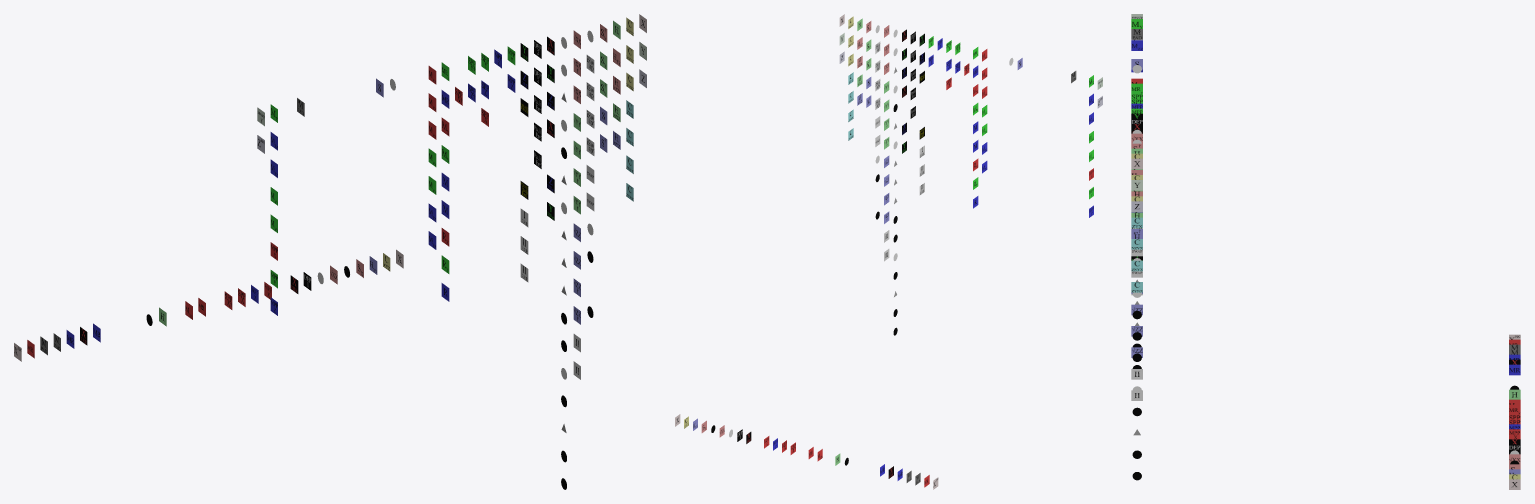
The model's file is circuit_all_ops_3d.gltf.
3 renders of one model, left to right at view 1: azimuth 30°, elevation 25°; view 2: azimuth 150°, elevation 25°; view 3: azimuth 270°, elevation 25°, orthographic. The views are drawn at different scales.
Size of the model in its own units: 29 by 32.9 by 33.
6 materials, 1 textured.
